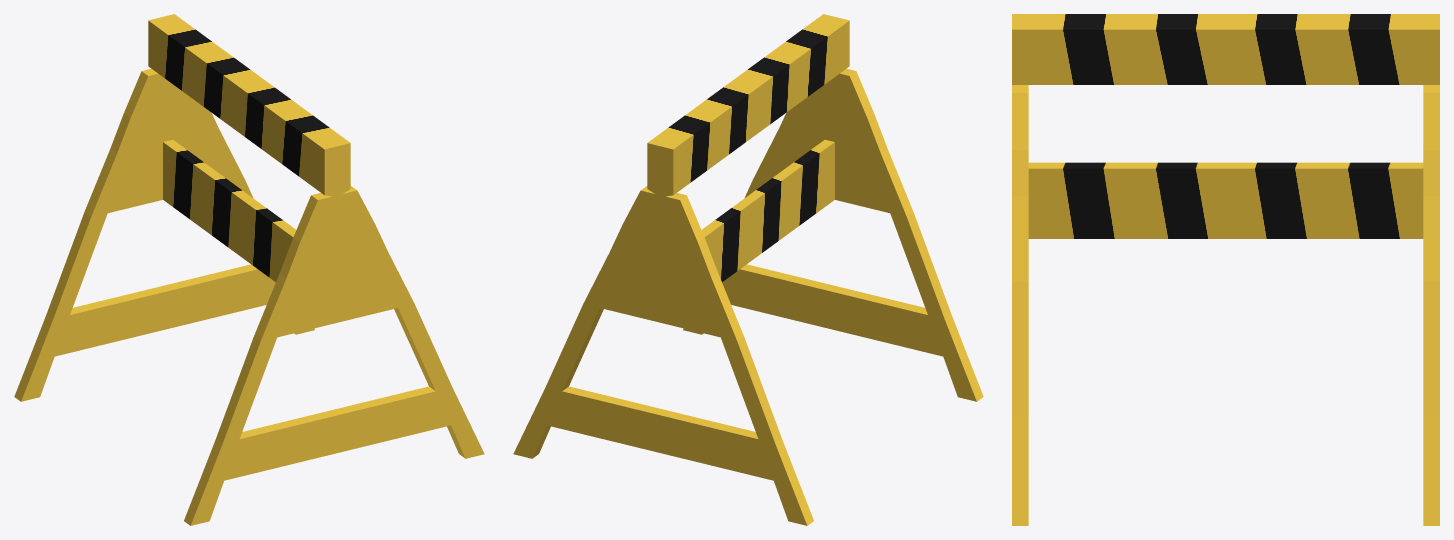
File: Cavalete.fbx
The picture shows the model from 3 angles, left to right: view 1: azimuth 30°, elevation 25°; view 2: azimuth 150°, elevation 25°; view 3: azimuth 270°, elevation 25°; orthographic projection. The views are drawn at different scales.
Parts seen in each view (by area): view 1: Cavalete; view 2: Cavalete; view 3: Cavalete.
Boxes of the visible parts, x1,y1,x2,y2 form: Cavalete: (14,14,484,525); Cavalete: (513,14,983,525); Cavalete: (1012,14,1439,525).
Bounding box in the file's own units: 180 × 201 × 187.
1 material, 1 textured.
